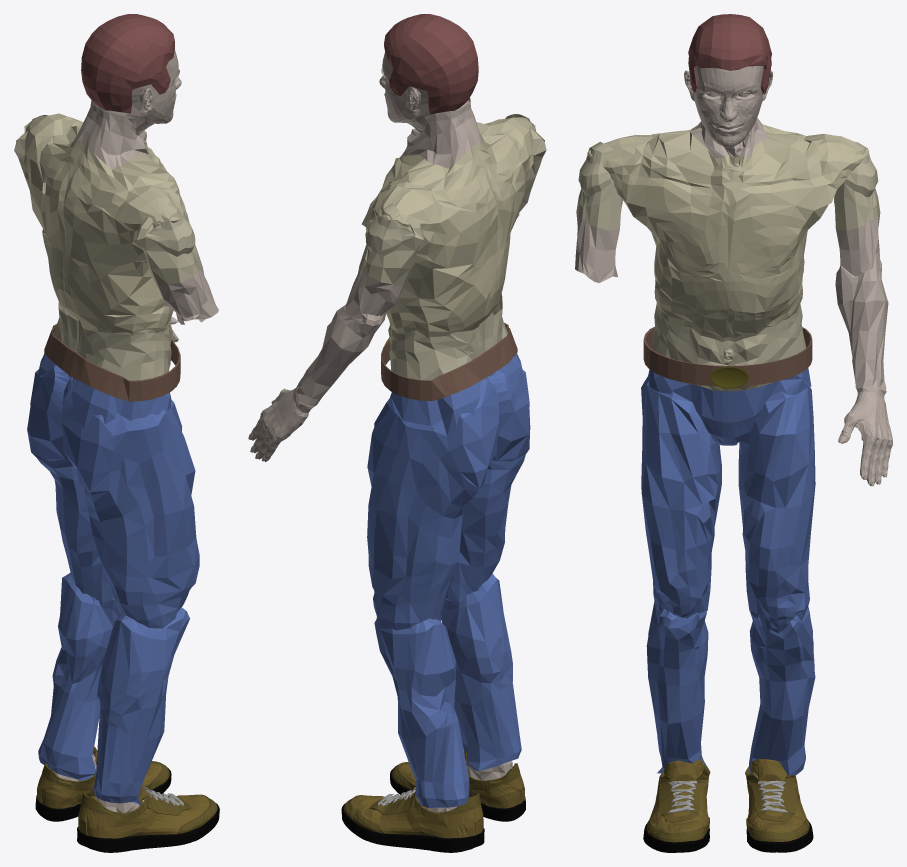
The model's file is humanMocap.dae.
3 views of the same model, side by side, from view 1: azimuth 30°, elevation 25°; view 2: azimuth 150°, elevation 25°; view 3: azimuth 270°, elevation 25° (orthographic).
Parts seen in each view (by area): view 1: Chest, LoLeg_R, UpLeg_R, Pelvis, UpLeg_L, LoLeg_L, Foot_R, Hair, LoArm_R, Foot_L, Head; view 2: Chest, LoLeg_L, UpLeg_L, Pelvis, UpLeg_R, LoLeg_R, Hair, Foot_L, LoArm_L, UpArm_L, Foot_R, Hand_L (+2 smaller); view 3: Chest, LoLeg_L, LoLeg_R, Pelvis, UpLeg_L, UpLeg_R, Foot_R, LoArm_R, Foot_L, Head, UpArm_L, LoArm_L (+2 smaller).
Boxes of the visible parts, left/top/right/bottom form: Chest: left=23, top=100, right=189, bottom=335; LoLeg_R: left=62, top=377, right=199, bottom=628; UpLeg_R: left=94, top=607, right=189, bottom=804; Pelvis: left=36, top=302, right=180, bottom=428; UpLeg_L: left=38, top=572, right=119, bottom=780; LoLeg_L: left=27, top=365, right=114, bottom=602; Foot_R: left=77, top=785, right=219, bottom=852; Hair: left=81, top=14, right=174, bottom=113; LoArm_R: left=137, top=202, right=218, bottom=324; Foot_L: left=35, top=746, right=171, bottom=821; Head: left=89, top=49, right=181, bottom=135; Chest: left=361, top=98, right=535, bottom=338; LoLeg_L: left=367, top=377, right=498, bottom=630; UpLeg_L: left=374, top=616, right=469, bottom=807; Pelvis: left=381, top=293, right=526, bottom=435; UpLeg_R: left=441, top=573, right=521, bottom=771; LoLeg_R: left=446, top=369, right=530, bottom=602; Hair: left=384, top=14, right=478, bottom=114; Foot_L: left=341, top=787, right=484, bottom=852; LoArm_L: left=344, top=203, right=424, bottom=323; UpArm_L: left=296, top=305, right=383, bottom=406; Foot_R: left=390, top=751, right=525, bottom=821; Hand_L: left=248, top=387, right=316, bottom=461; Chest: left=587, top=117, right=869, bottom=341; LoLeg_L: left=738, top=386, right=815, bottom=632; LoLeg_R: left=641, top=376, right=721, bottom=618; Pelvis: left=643, top=303, right=812, bottom=445; UpLeg_L: left=749, top=606, right=815, bottom=775; UpLeg_R: left=646, top=601, right=708, bottom=773; Foot_R: left=643, top=756, right=710, bottom=852; LoArm_R: left=575, top=141, right=622, bottom=282; Foot_L: left=745, top=759, right=813, bottom=852; Head: left=684, top=66, right=772, bottom=147; UpArm_L: left=835, top=260, right=888, bottom=388; LoArm_L: left=834, top=142, right=880, bottom=275.
Bounding box in the file's own units: 0.4713 × 0.6605 × 1.87.
